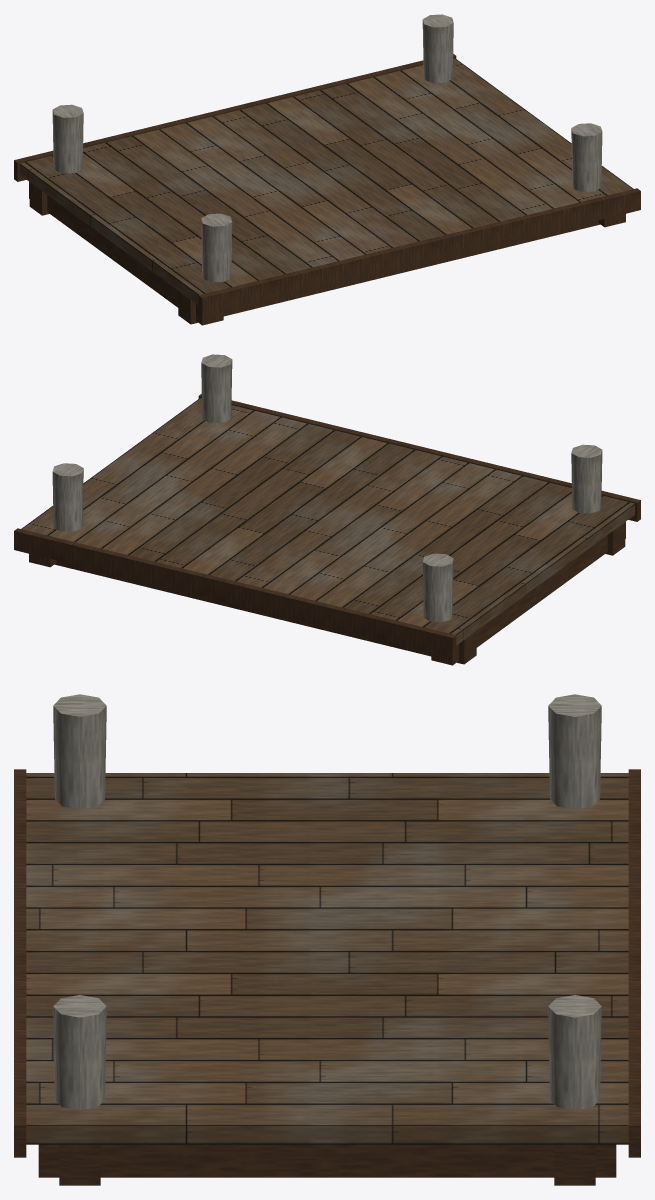
Rendered from SM_Art_Pier_405x300x100_P-50.gltf.
The picture shows the model from 3 angles, top to bottom: view 1: azimuth 30°, elevation 25°; view 2: azimuth 150°, elevation 25°; view 3: azimuth 270°, elevation 25°; orthographic projection. The views are drawn at different scales.
Parts seen in each view (by area): view 1: SM_Art_Pier_405x300x100_P-50; view 2: SM_Art_Pier_405x300x100_P-50; view 3: SM_Art_Pier_405x300x100_P-50.
Boxes of the visible parts, x1,y1,x2,y2 form: SM_Art_Pier_405x300x100_P-50: (14,14,640,325); SM_Art_Pier_405x300x100_P-50: (14,354,640,665); SM_Art_Pier_405x300x100_P-50: (14,694,640,1185).
Bounding box in the file's own units: 4.09 × 0.8201 × 3.04.
3 materials, 3 textured.
